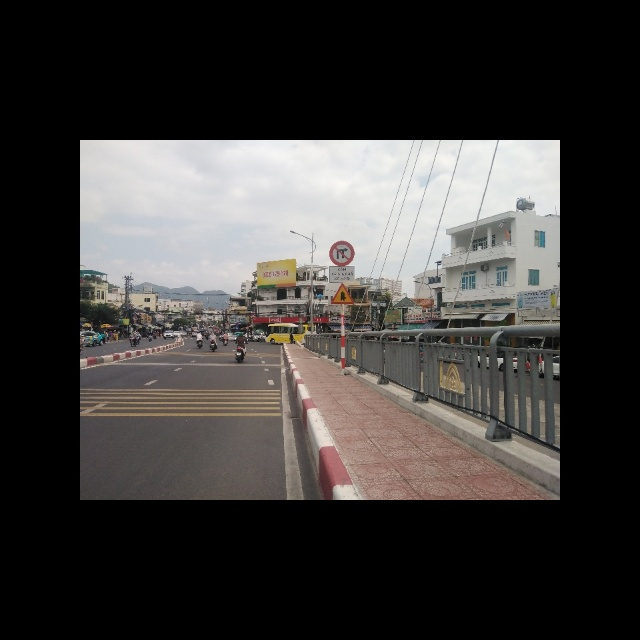Cấm quay đầu và rẽ phải: (328, 240, 355, 266)
Giao nhau với đường không ưu tiên: (331, 284, 354, 305)
